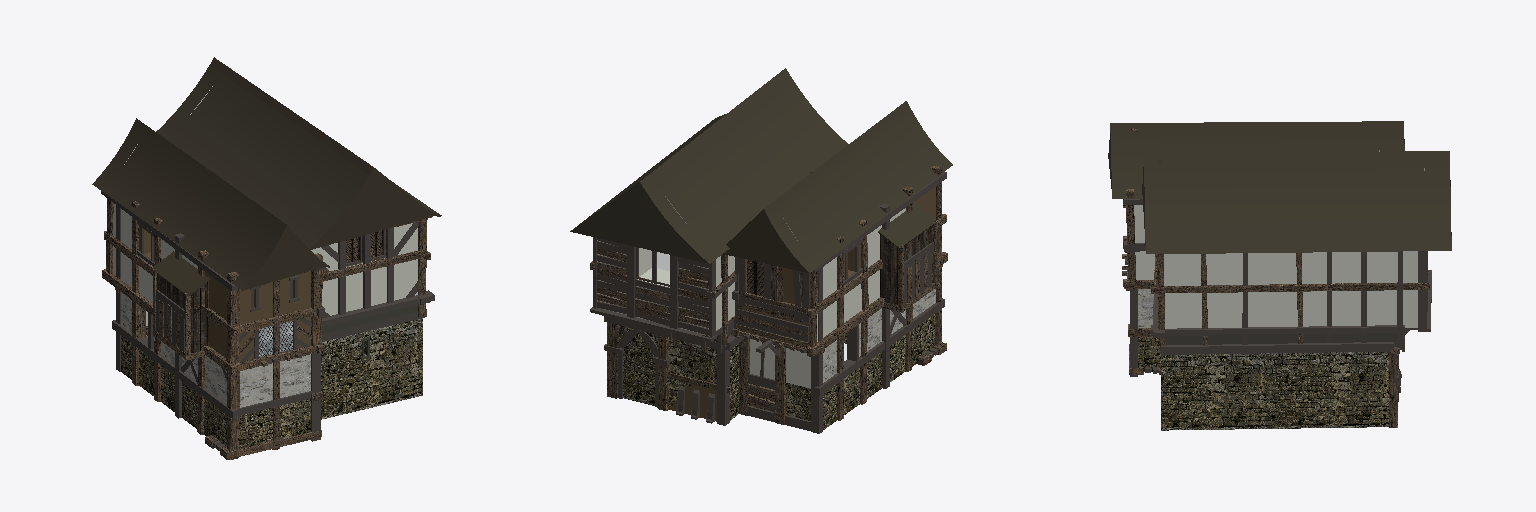
3 views of the same model, side by side, from view 1: azimuth 30°, elevation 25°; view 2: azimuth 150°, elevation 25°; view 3: azimuth 270°, elevation 25° (orthographic).
Parts seen in each view (by area): view 1: Mesh107 Group107 Group_221_1 Group1 Model, Mesh201 Group201 Group200 Group_222_1 Group1 Model, Mesh264 Group_222_1 Group1 Model, Mesh137 Group_221_1 Group1 Model, Mesh19 Group19 Group_221_1 Group1 Model, Mesh242 Group243 Group242 Group236 Group_222_1 Group1 Model, Mesh244 Group245 Group242 Group236 Group_222_1 Group1 Model, Mesh192 Group191 Group_222_1 Group1 Model, Mesh210 Group209 Group_222_1 Group1 Model, Mesh156 Group155 Group_222_1 Group1 Model, Mesh98 Group98 Group_221_1 Group1 Model, Mesh177 Group176 Group_222_1 Group1 Model (+14 smaller); view 2: Mesh107 Group107 Group_221_1 Group1 Model, Mesh201 Group201 Group200 Group_222_1 Group1 Model, Mesh264 Group_222_1 Group1 Model, Mesh137 Group_221_1 Group1 Model, Mesh242 Group243 Group242 Group236 Group_222_1 Group1 Model, Mesh19 Group19 Group_221_1 Group1 Model, Mesh244 Group245 Group242 Group236 Group_222_1 Group1 Model, Mesh192 Group191 Group_222_1 Group1 Model, Mesh141 Group140 Group_222_1 Group1 Model, Mesh156 Group155 Group_222_1 Group1 Model, Mesh7 Group8 Group_221_1 Group1 Model, Mesh144 Group143 Group_222_1 Group1 Model (+10 smaller); view 3: Mesh107 Group107 Group_221_1 Group1 Model, Mesh137 Group_221_1 Group1 Model, Mesh19 Group19 Group_221_1 Group1 Model, Mesh201 Group201 Group200 Group_222_1 Group1 Model, Mesh264 Group_222_1 Group1 Model, Mesh105 Group105 Group_221_1 Group1 Model, Mesh97 Group97 Group_221_1 Group1 Model, Mesh1 Group2 Group_221_1 Group1 Model, Mesh60 Group60 Group_221_1 Group1 Model, Mesh189 Group188 Group_222_1 Group1 Model, Mesh153 Group152 Group_222_1 Group1 Model, Mesh57 Group57 Group_221_1 Group1 Model (+1 smaller).
Boxes of the visible parts, box(x1,y1,x2,y2) form: Mesh107 Group107 Group_221_1 Group1 Model: box(156, 57, 441, 249); Mesh201 Group201 Group200 Group_222_1 Group1 Model: box(92, 118, 329, 290); Mesh264 Group_222_1 Group1 Model: box(113, 204, 310, 448); Mesh137 Group_221_1 Group1 Model: box(321, 309, 426, 419); Mesh19 Group19 Group_221_1 Group1 Model: box(311, 223, 417, 333); Mesh242 Group243 Group242 Group236 Group_222_1 Group1 Model: box(153, 269, 208, 360); Mesh244 Group245 Group242 Group236 Group_222_1 Group1 Model: box(152, 251, 210, 296); Mesh192 Group191 Group_222_1 Group1 Model: box(112, 320, 236, 418); Mesh210 Group209 Group_222_1 Group1 Model: box(272, 280, 279, 449); Mesh156 Group155 Group_222_1 Group1 Model: box(102, 269, 237, 374); Mesh98 Group98 Group_221_1 Group1 Model: box(322, 290, 434, 326); Mesh177 Group176 Group_222_1 Group1 Model: box(226, 272, 239, 363); Mesh107 Group107 Group_221_1 Group1 Model: box(570, 68, 848, 263); Mesh201 Group201 Group200 Group_222_1 Group1 Model: box(723, 101, 952, 272); Mesh264 Group_222_1 Group1 Model: box(742, 186, 935, 429); Mesh137 Group_221_1 Group1 Model: box(606, 316, 743, 421); Mesh242 Group243 Group242 Group236 Group_222_1 Group1 Model: box(880, 221, 936, 312); Mesh19 Group19 Group_221_1 Group1 Model: box(597, 240, 734, 336); Mesh244 Group245 Group242 Group236 Group_222_1 Group1 Model: box(878, 204, 937, 248); Mesh192 Group191 Group_222_1 Group1 Model: box(815, 298, 944, 395); Mesh141 Group140 Group_222_1 Group1 Model: box(811, 267, 822, 433); Mesh156 Group155 Group_222_1 Group1 Model: box(807, 252, 947, 356); Mesh7 Group8 Group_221_1 Group1 Model: box(717, 349, 729, 425); Mesh144 Group143 Group_222_1 Group1 Model: box(775, 345, 785, 424); Mesh107 Group107 Group_221_1 Group1 Model: box(1142, 151, 1451, 253); Mesh137 Group_221_1 Group1 Model: box(1161, 342, 1403, 430); Mesh19 Group19 Group_221_1 Group1 Model: box(1164, 251, 1417, 344); Mesh201 Group201 Group200 Group_222_1 Group1 Model: box(1108, 121, 1404, 198); Mesh264 Group_222_1 Group1 Model: box(1134, 205, 1160, 371); Mesh105 Group105 Group_221_1 Group1 Model: box(1151, 282, 1429, 293); Mesh97 Group97 Group_221_1 Group1 Model: box(1151, 325, 1404, 335); Mesh1 Group2 Group_221_1 Group1 Model: box(1389, 352, 1397, 427); Mesh60 Group60 Group_221_1 Group1 Model: box(1418, 251, 1426, 328); Mesh189 Group188 Group_222_1 Group1 Model: box(1126, 189, 1135, 280); Mesh153 Group152 Group_222_1 Group1 Model: box(1130, 289, 1137, 376); Mesh57 Group57 Group_221_1 Group1 Model: box(1397, 251, 1402, 347).
Size of the model in its own units: 19.35 by 19.53 by 24.13.
14 materials, 8 textured.